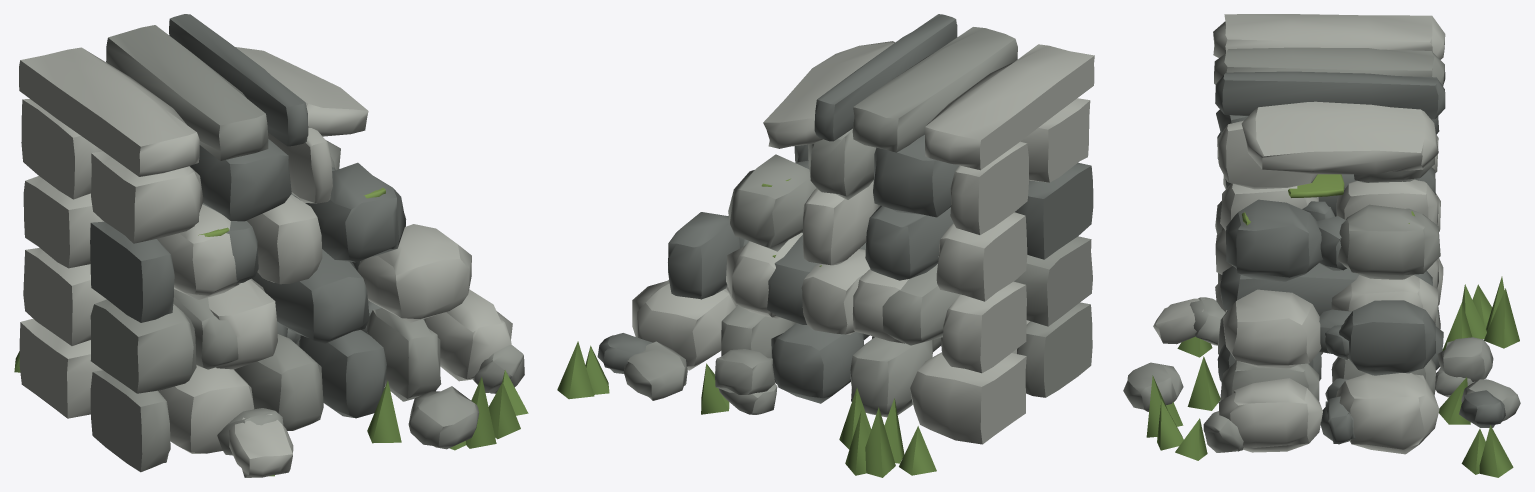
File: stone-wall-end.glb
The picture shows the model from 3 angles, left to right: view 1: azimuth 30°, elevation 25°; view 2: azimuth 150°, elevation 25°; view 3: azimuth 270°, elevation 25°; orthographic projection. The views are drawn at different scales.
Visible parts, largest first — view 1: capstone_47, capstone_48, face_stone_24, face_stone_21, face_stone_44, face_stone_37, face_stone_32, through_stone_23, capstone_49, face_stone_6, face_stone_45, face_stone_7 (+22 smaller); view 2: capstone_47, capstone_48, face_stone_1, face_stone_27, face_stone_30, face_stone_14, face_stone_5, capstone_49, face_stone_3, face_stone_41, face_stone_32, face_stone_6 (+27 smaller); view 3: capstone_fallen_50, capstone_47, capstone_49, face_stone_24, face_stone_5, face_stone_37, face_stone_30, face_stone_20, capstone_48, face_stone_11, through_stone_23, face_stone_29 (+35 smaller).
Boxes of the visible parts, bbox=[...] form: capstone_47: bbox=[19, 47, 199, 176]; capstone_48: bbox=[106, 25, 268, 160]; face_stone_24: bbox=[358, 224, 471, 322]; face_stone_21: bbox=[90, 299, 196, 393]; face_stone_44: bbox=[91, 151, 203, 243]; face_stone_37: bbox=[305, 162, 405, 262]; face_stone_32: bbox=[90, 221, 174, 322]; through_stone_23: bbox=[251, 249, 369, 343]; capstone_49: bbox=[169, 14, 308, 146]; face_stone_6: bbox=[90, 370, 170, 472]; face_stone_45: bbox=[190, 139, 291, 221]; face_stone_7: bbox=[158, 365, 254, 453]; capstone_47: bbox=[925, 44, 1094, 170]; capstone_48: bbox=[852, 27, 1017, 152]; face_stone_1: bbox=[910, 352, 1026, 444]; face_stone_27: bbox=[936, 212, 1027, 301]; face_stone_30: bbox=[728, 154, 816, 251]; face_stone_14: bbox=[942, 281, 1026, 373]; face_stone_5: bbox=[632, 280, 736, 370]; capstone_49: bbox=[814, 14, 957, 141]; face_stone_3: bbox=[771, 323, 863, 403]; face_stone_41: bbox=[950, 141, 1028, 234]; face_stone_32: bbox=[1015, 162, 1093, 259]; face_stone_6: bbox=[1017, 302, 1092, 397]; capstone_fallen_50: bbox=[1241, 101, 1438, 174]; capstone_47: bbox=[1213, 14, 1445, 59]; capstone_49: bbox=[1215, 71, 1445, 119]; face_stone_24: bbox=[1223, 289, 1321, 368]; face_stone_5: bbox=[1336, 373, 1439, 454]; face_stone_37: bbox=[1226, 199, 1323, 281]; face_stone_30: bbox=[1337, 204, 1440, 279]; face_stone_20: bbox=[1339, 300, 1435, 375]; capstone_48: bbox=[1214, 47, 1445, 85]; face_stone_11: bbox=[1218, 378, 1322, 452]; through_stone_23: bbox=[1220, 263, 1432, 316]; face_stone_29: bbox=[1336, 179, 1438, 224].
Bounding box in the file's own units: 0.5345 × 0.4368 × 0.5202.
